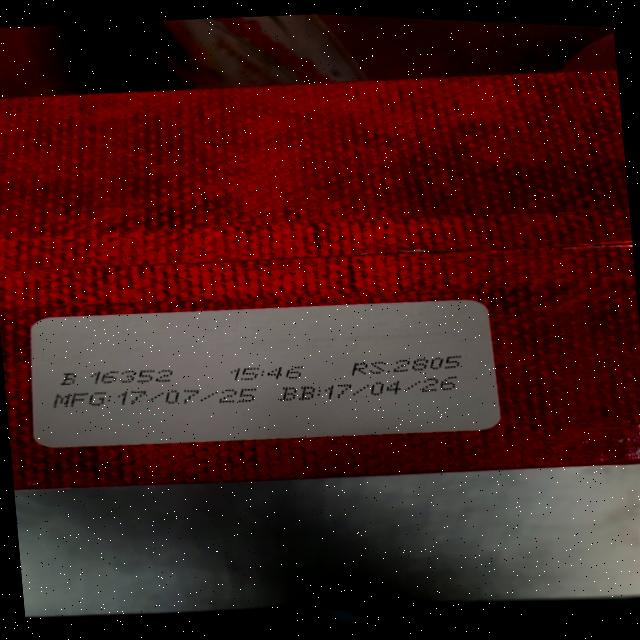BB: (278, 368, 466, 410)
Batch: (57, 361, 176, 391)
MFG: (52, 373, 260, 419)
RS: (348, 350, 468, 380)
TimeStamp: (228, 361, 308, 384)
